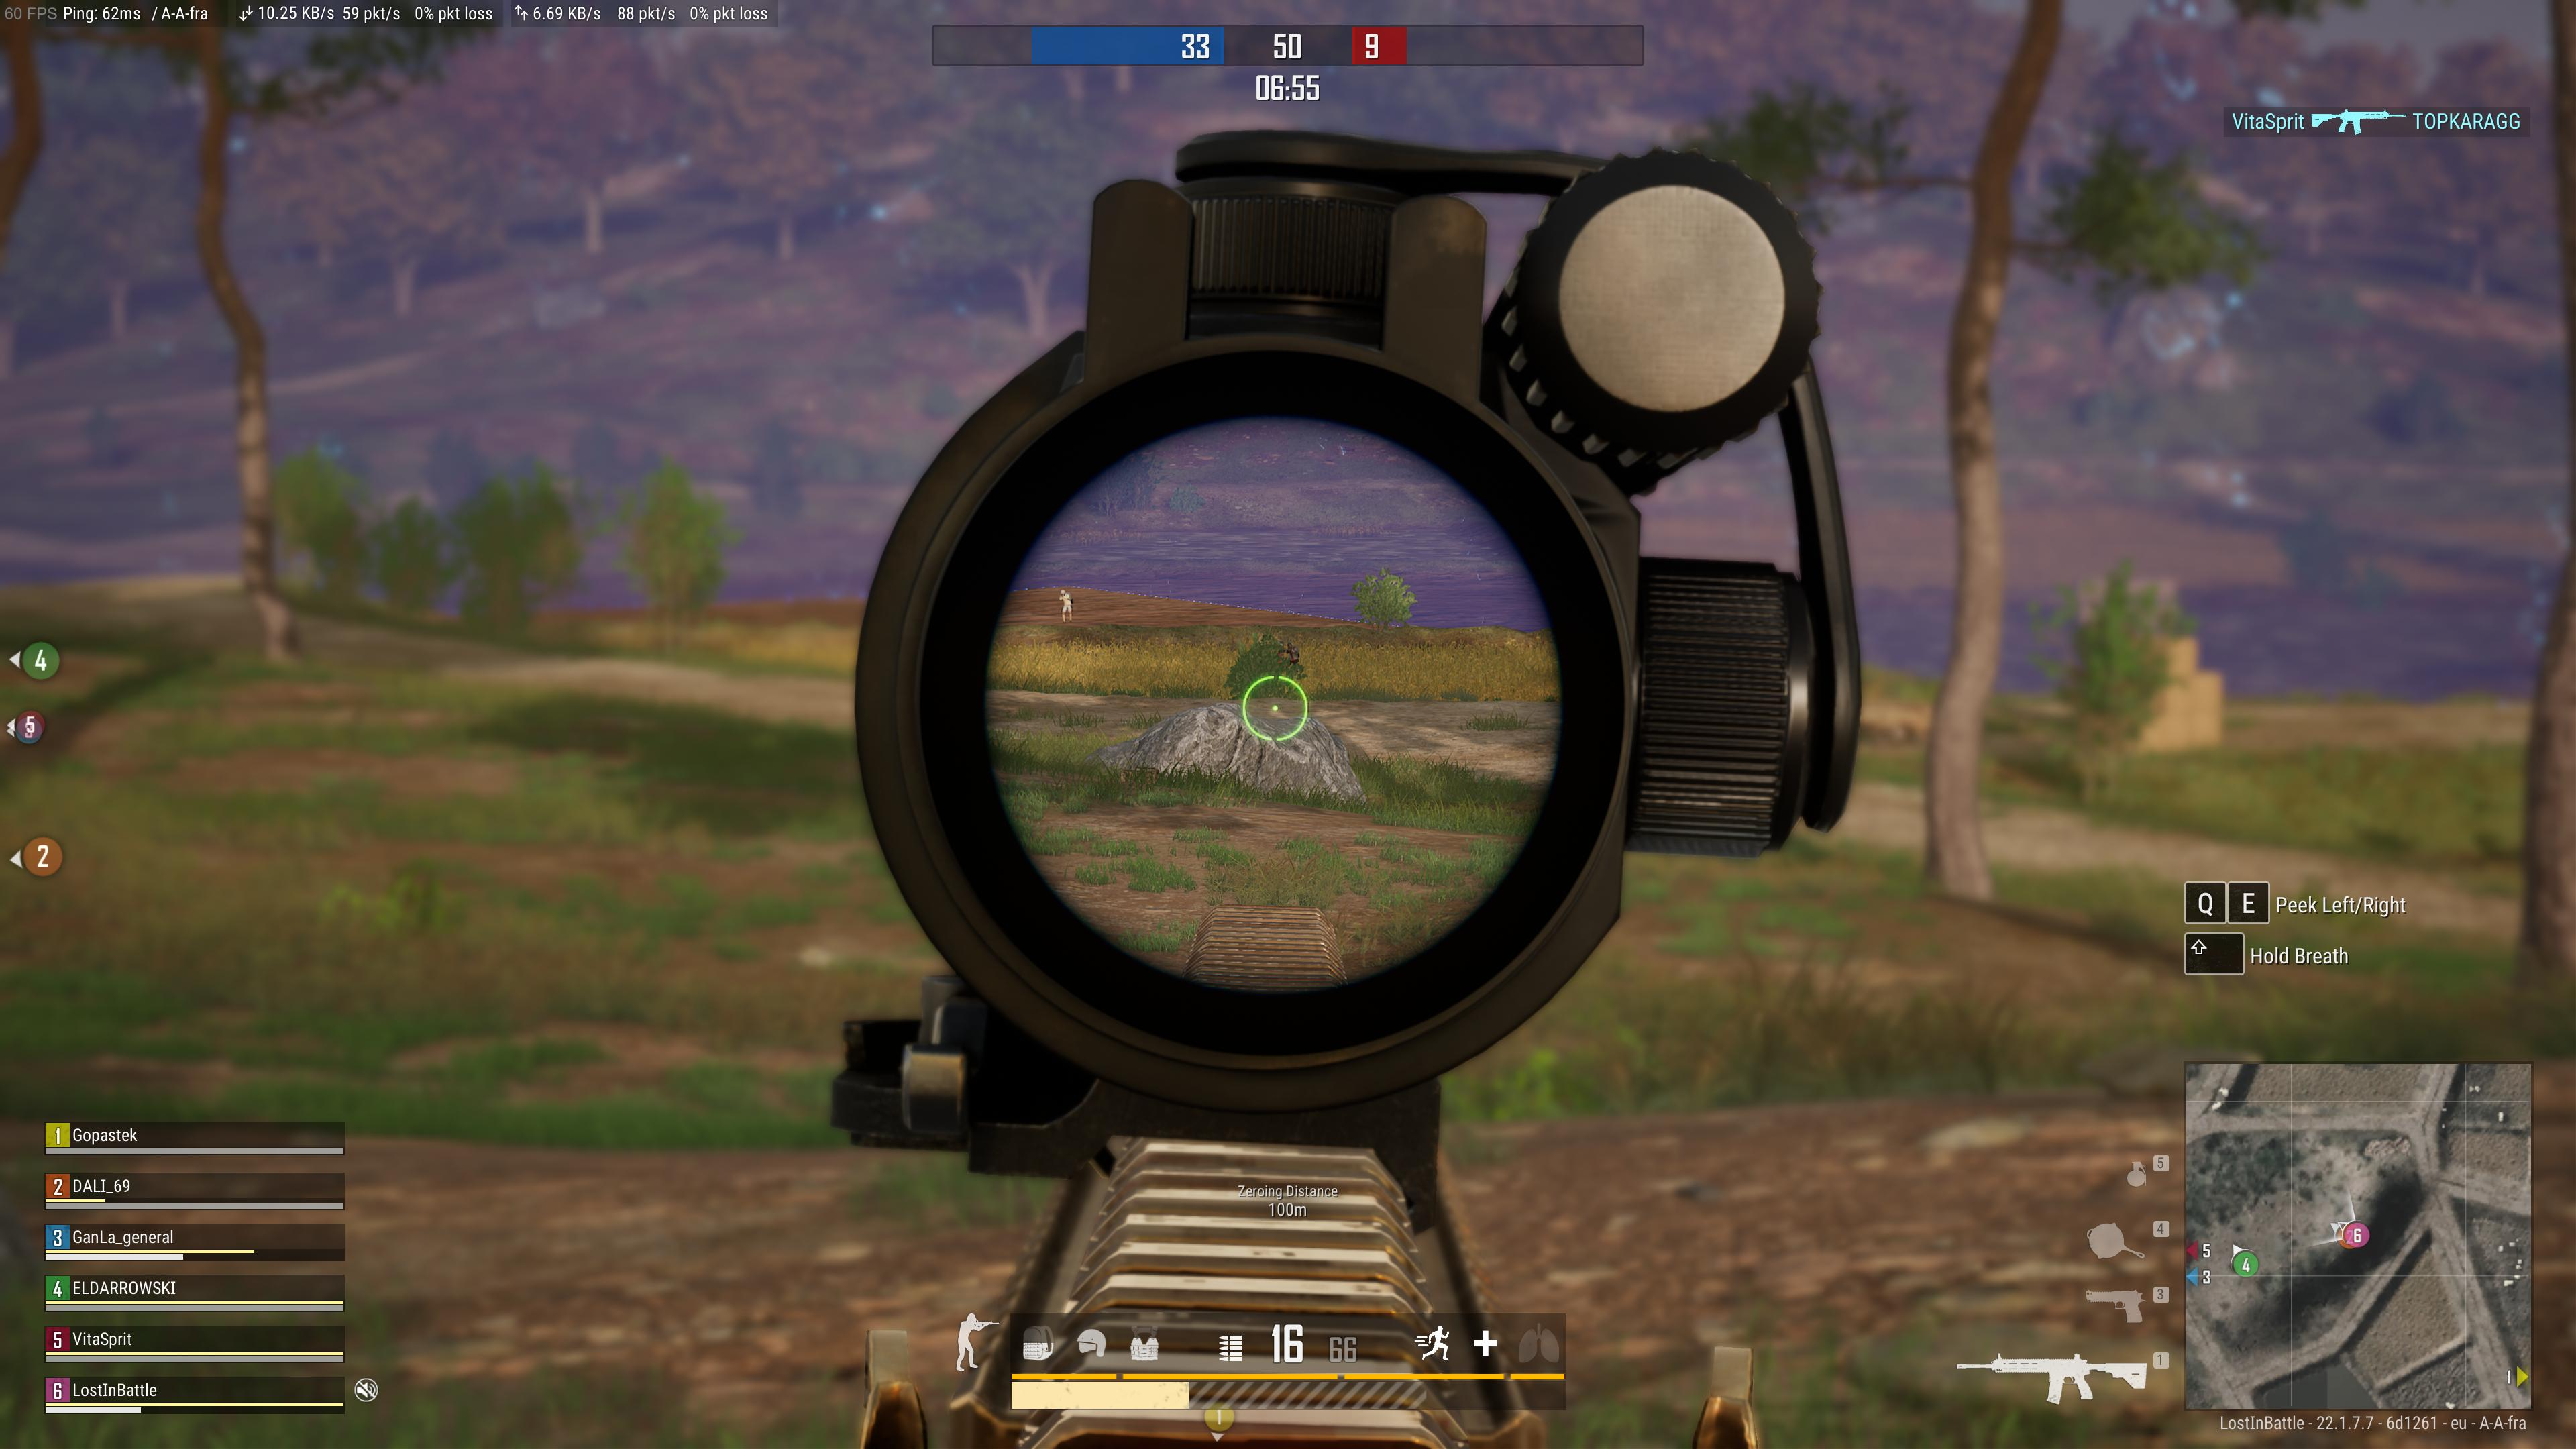enemy: (1058, 589, 1074, 623), (1284, 640, 1299, 667)
enemy_head: (1284, 640, 1293, 648), (1060, 589, 1065, 596)
